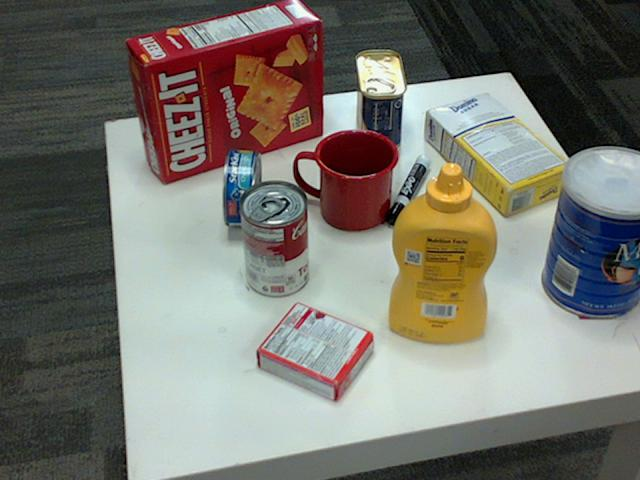cracker_box: (126, 0, 322, 180)
gelatin_box: (253, 302, 370, 403)
large_marker: (385, 158, 430, 225)
master_chef_can: (542, 147, 639, 319)
mug: (294, 127, 399, 229)
mustard_bottle: (387, 163, 497, 342)
potted_meat_can: (353, 51, 405, 150)
sugar_box: (425, 93, 575, 216)
tomato_soup_can: (239, 180, 308, 297)
tuna_fish_can: (221, 148, 261, 226)
